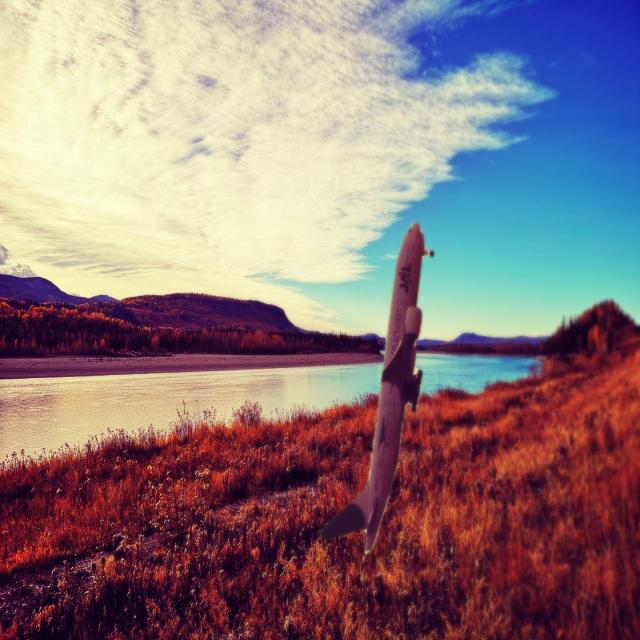airplane: (320, 220, 434, 556)
